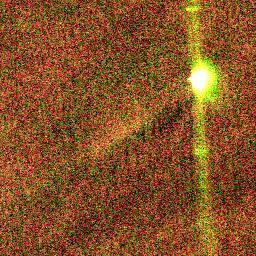Ship: (184, 57, 217, 102)
